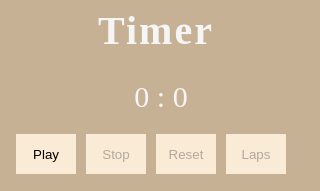
Test: Stopwatch › it should check on clicking play button becomes active and others inactive
Click the button with test id "play" at (46, 154), box top-left (16, 134), bottom-right (76, 174)
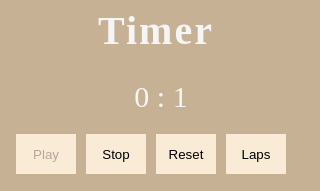
expect the button with test id "play" is disabled: met, box top-left (16, 134), bottom-right (76, 174)
